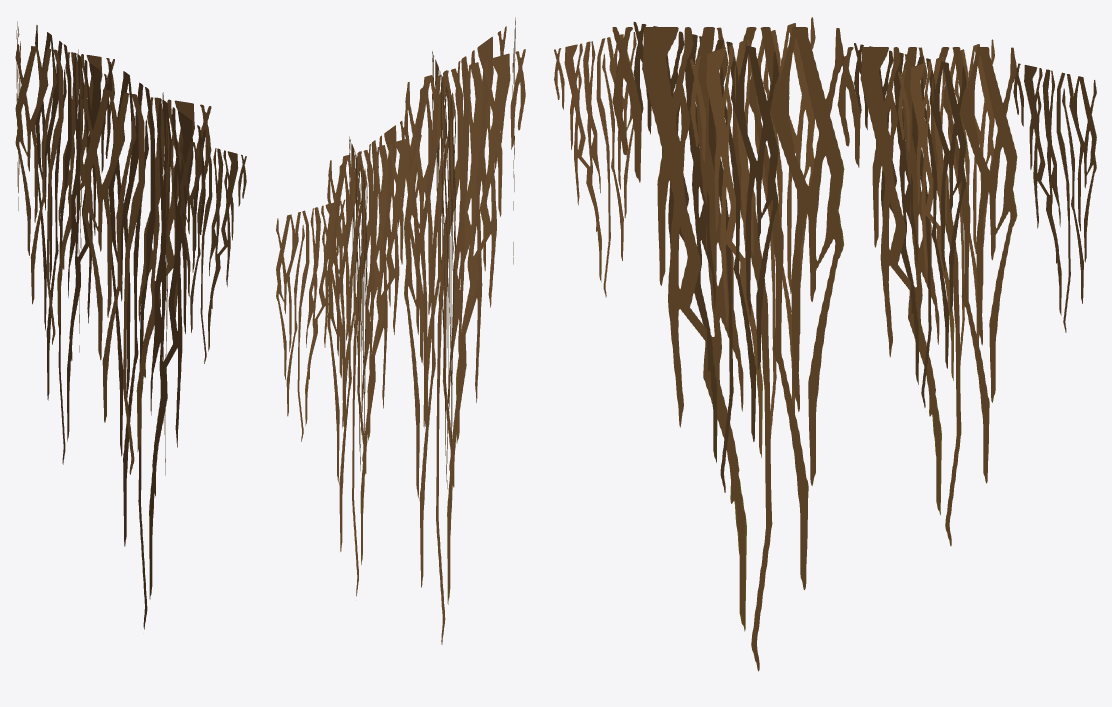
The model's file is Ivy 3.FBX.
3 renders of one model, left to right at view 1: azimuth 30°, elevation 25°; view 2: azimuth 150°, elevation 25°; view 3: azimuth 270°, elevation 25°, orthographic. The views are drawn at different scales.
Visible parts, largest first — view 1: Plane002; view 2: Plane002; view 3: Plane002.
Part boxes in pixels (left/top/right/bottom): Plane002: left=15, top=21, right=246, bottom=629; Plane002: left=276, top=17, right=525, bottom=644; Plane002: left=554, top=17, right=1096, bottom=671.
Size of the model in its own units: 3.32 by 23.36 by 17.25.
